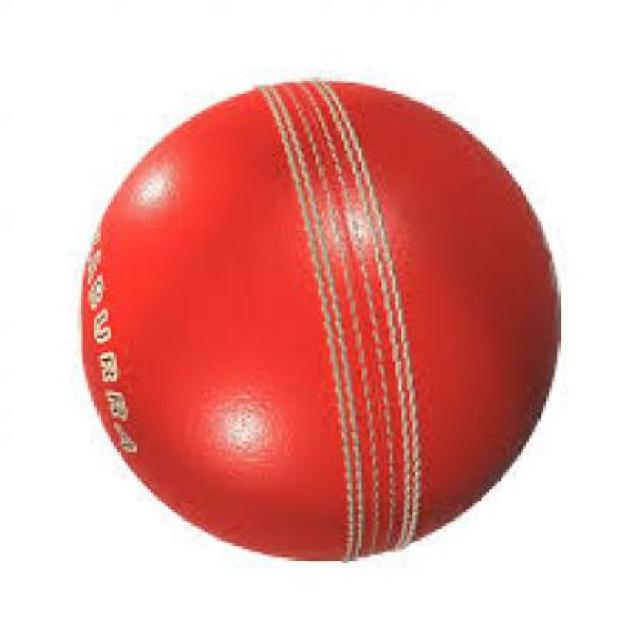ball: (36, 63, 582, 572)
